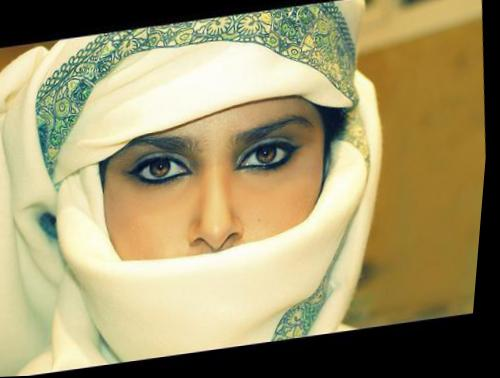WRONG: (75, 61, 361, 353)
